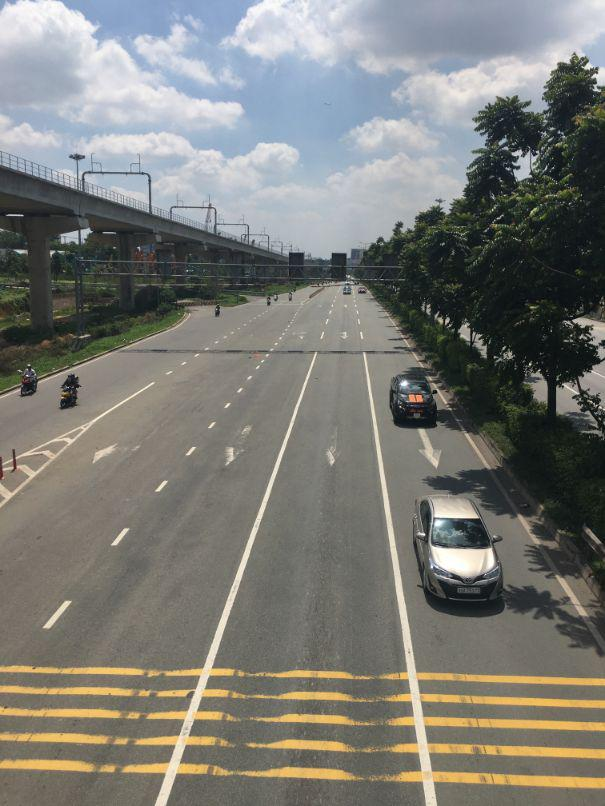car: (413, 497, 506, 608), (390, 372, 437, 427)
motorbike: (59, 373, 80, 408), (21, 369, 38, 397)
